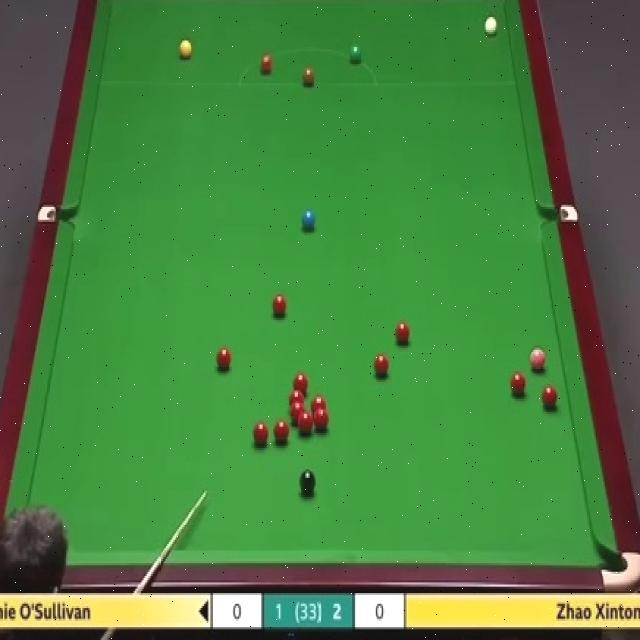black-ball: (299, 468, 316, 498)
blue-ball: (301, 209, 317, 232)
brown-ball: (302, 66, 316, 87)
green-ball: (348, 44, 362, 65)
pink-ball: (530, 346, 546, 373)
red-ball: (215, 346, 233, 374), (273, 418, 290, 447), (251, 420, 269, 446), (511, 372, 529, 397), (542, 386, 560, 410), (313, 408, 329, 434), (373, 354, 389, 379), (271, 295, 288, 318), (396, 320, 411, 346), (298, 410, 312, 434), (259, 53, 275, 73), (290, 403, 305, 423), (292, 373, 309, 390), (289, 388, 304, 406), (311, 398, 326, 412)
white-ball: (483, 17, 498, 39)
yellow-ball: (180, 40, 193, 62)
